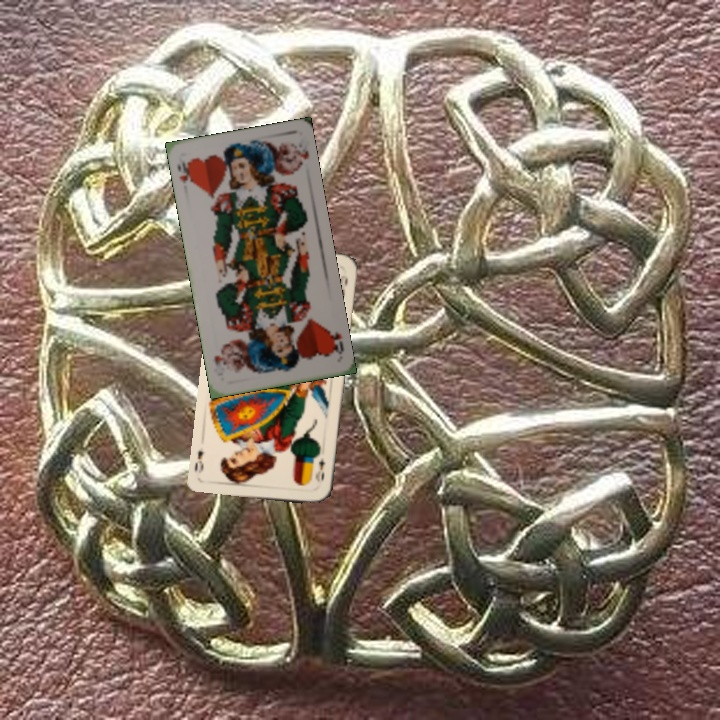EO: (311, 454, 328, 484)
HO: (173, 155, 195, 187), (325, 326, 346, 357)
